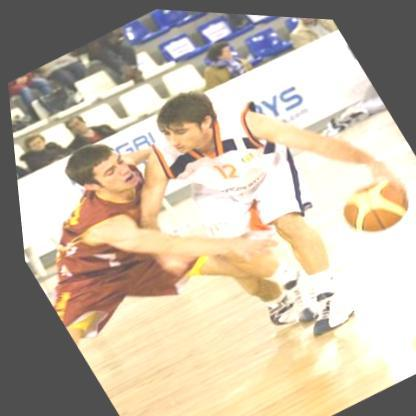basketball: (324, 161, 416, 243)
